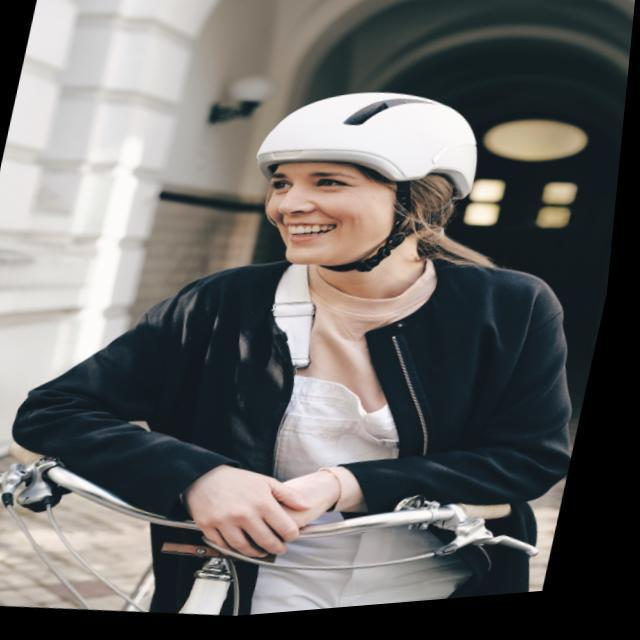Helmet: (251, 81, 482, 287)
